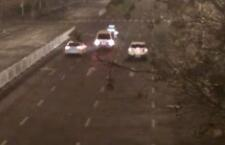car: (127, 37, 149, 61), (93, 29, 116, 50), (61, 38, 87, 56)
